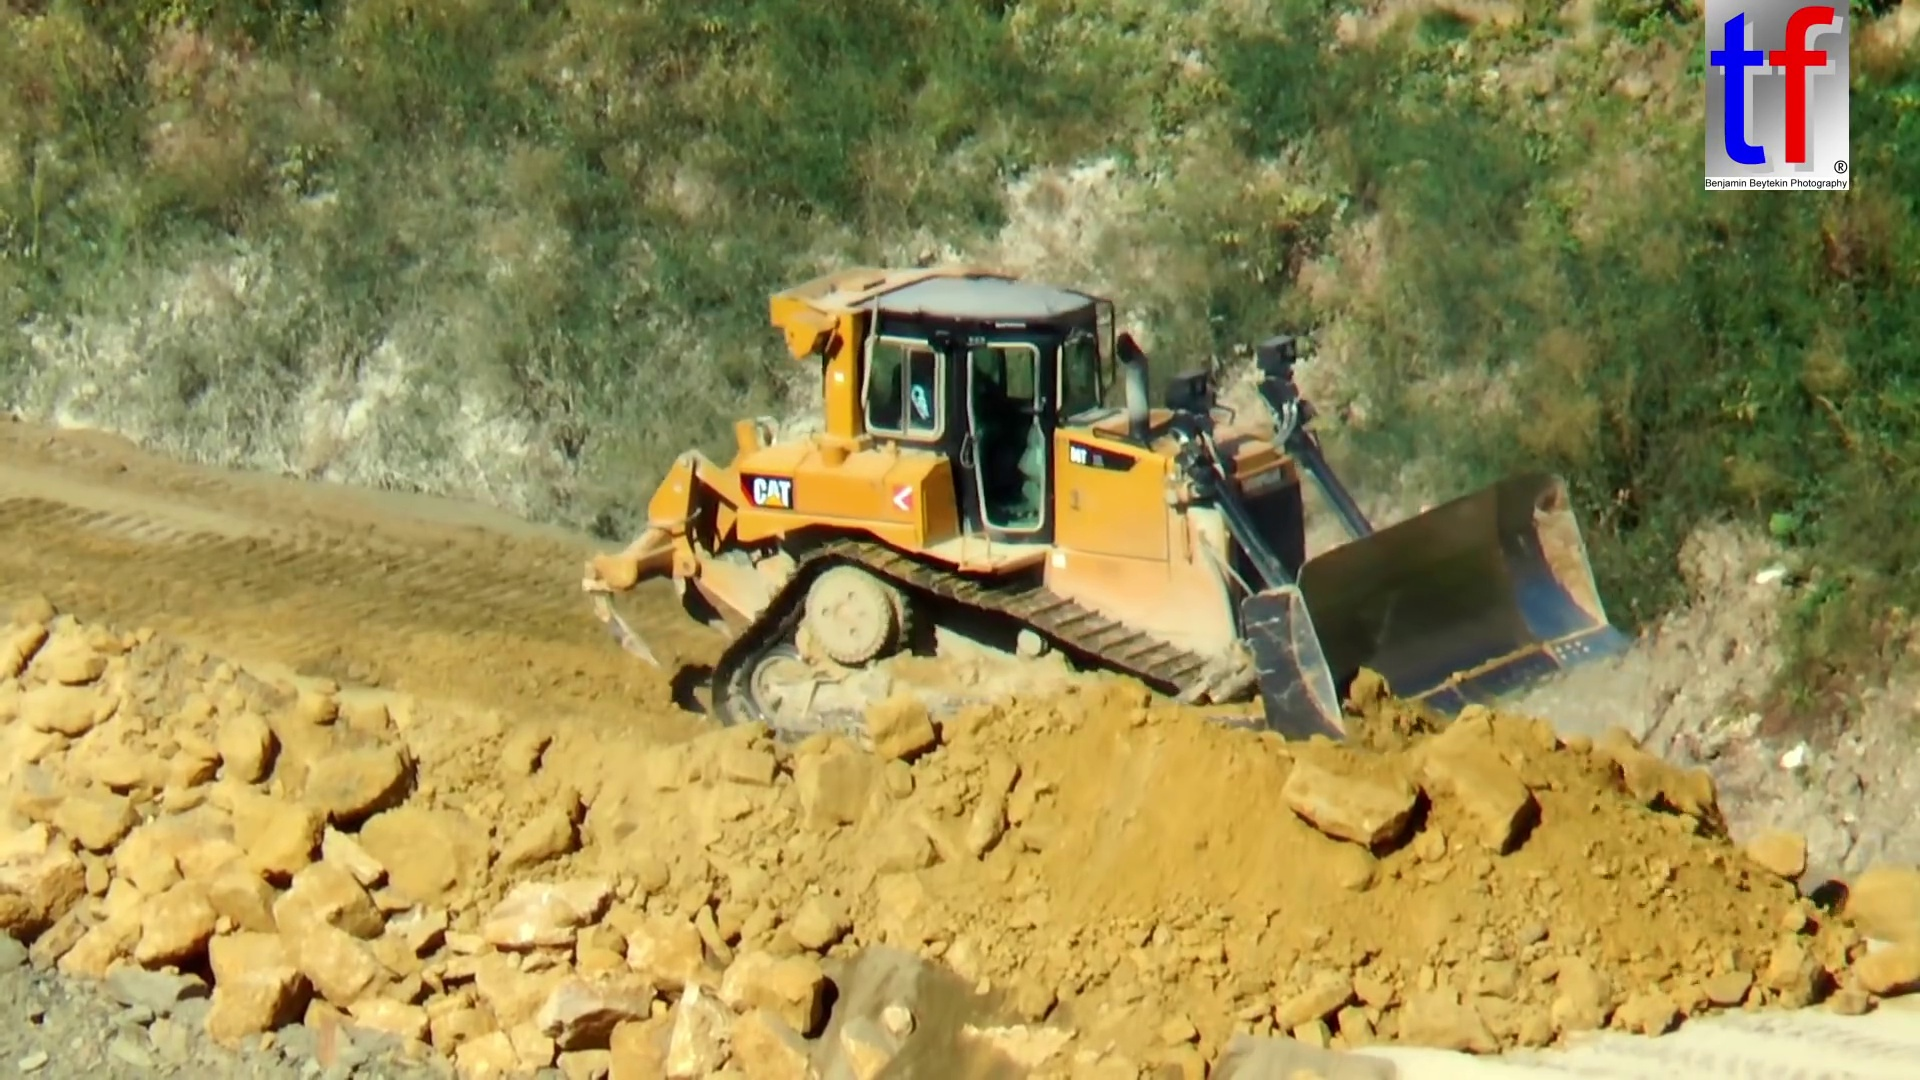bulldozer: (584, 258, 1634, 750)
